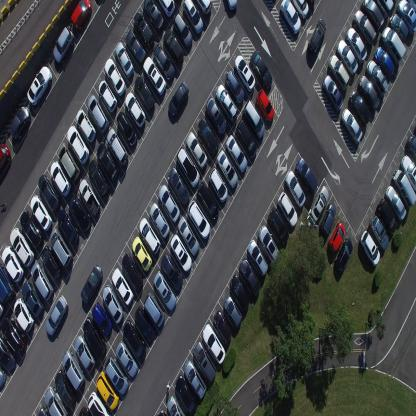car: (26, 64, 52, 106), (9, 227, 35, 268), (46, 294, 69, 338), (176, 146, 200, 188), (122, 320, 146, 362), (61, 349, 85, 391), (82, 318, 106, 360), (381, 26, 406, 66), (104, 355, 129, 395), (49, 228, 73, 269), (110, 266, 134, 307), (194, 340, 216, 384), (30, 260, 53, 302), (202, 324, 225, 366), (152, 42, 176, 82), (392, 168, 416, 208), (96, 141, 120, 181), (66, 124, 90, 164), (87, 158, 110, 199), (80, 264, 103, 305), (174, 374, 197, 415), (242, 99, 266, 138), (187, 200, 211, 239), (142, 56, 166, 95), (19, 210, 43, 249), (95, 371, 119, 410), (1, 317, 26, 354), (216, 82, 238, 124), (239, 256, 261, 298), (250, 49, 272, 91), (196, 181, 219, 221), (157, 184, 180, 224), (56, 207, 79, 247), (121, 252, 144, 292), (177, 216, 199, 257), (58, 142, 80, 183), (102, 283, 124, 324), (184, 359, 206, 400), (216, 150, 239, 189), (295, 156, 318, 195), (186, 130, 208, 170), (168, 167, 190, 207), (154, 270, 176, 310), (226, 133, 248, 173), (104, 57, 126, 97), (87, 94, 109, 134), (106, 128, 128, 168), (38, 173, 60, 213), (30, 193, 52, 233), (235, 119, 258, 157), (160, 252, 183, 290), (233, 54, 256, 92), (69, 194, 92, 232), (1, 245, 24, 283), (205, 97, 227, 136), (170, 234, 192, 273), (284, 170, 306, 209), (21, 280, 43, 319), (116, 340, 138, 379), (54, 369, 76, 408), (348, 89, 371, 126), (134, 74, 156, 112), (132, 10, 154, 48), (124, 90, 146, 128), (328, 54, 350, 92), (341, 107, 363, 145), (336, 39, 358, 77), (345, 26, 367, 64), (354, 10, 376, 48), (366, 59, 388, 97), (248, 237, 268, 278), (268, 206, 289, 245), (79, 178, 100, 217), (196, 118, 218, 155), (138, 217, 160, 254), (116, 110, 138, 147), (53, 25, 74, 63), (323, 74, 344, 112), (50, 160, 71, 198), (148, 202, 170, 238), (307, 18, 327, 57), (75, 334, 95, 373), (144, 291, 165, 328), (131, 235, 152, 272), (360, 229, 380, 267), (258, 224, 278, 262), (230, 274, 250, 312), (224, 70, 245, 106), (168, 80, 189, 116), (358, 75, 379, 111), (124, 29, 146, 63), (8, 106, 30, 140), (12, 298, 34, 332), (164, 26, 184, 63), (378, 198, 398, 235), (309, 186, 329, 223), (134, 306, 154, 343), (182, 0, 203, 35), (360, 0, 384, 30), (386, 185, 406, 221), (41, 245, 61, 281), (92, 300, 112, 336), (44, 386, 68, 416), (374, 46, 395, 80), (370, 214, 389, 251), (280, 0, 300, 35), (278, 191, 298, 226), (76, 108, 96, 143), (143, 0, 166, 30), (116, 40, 134, 78), (209, 167, 228, 203), (335, 237, 353, 275), (213, 310, 232, 346), (173, 12, 193, 46), (98, 80, 118, 113), (327, 222, 346, 256), (0, 332, 16, 372), (223, 296, 243, 328), (70, 1, 92, 30), (0, 262, 15, 303), (256, 88, 274, 122), (400, 154, 416, 192), (398, 0, 416, 33), (390, 13, 409, 42), (320, 202, 336, 236), (87, 392, 110, 415), (166, 395, 186, 415), (0, 143, 11, 176), (291, 0, 309, 20), (376, 0, 395, 18), (157, 0, 175, 18), (406, 133, 416, 162), (194, 0, 212, 15), (224, 0, 238, 13), (0, 364, 7, 388), (77, 405, 90, 415), (36, 407, 50, 415), (0, 301, 5, 316), (157, 408, 167, 415)
